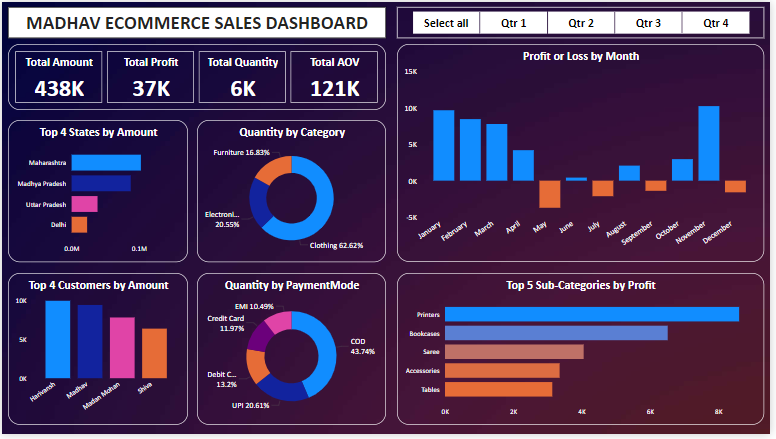

This screenshot's page, from the dashboard's own definition file:
{"tool":"powerbi","page":{"name":"Page 1","canvas":[1280,720],"ordinal":0},"visuals":[{"type":"textbox","box":[10,8.3,630,51.7],"z":0},{"type":"clusteredColumnChart","title":"Profit or Loss by Month","fields":{"Y":["Sum(Details_Data.Profit)"],"Category":["Orders_Lookup.Order Date.Variation.Date Hierarchy.Month"]},"box":[658.3,70,611.7,363.3],"z":1000},{"type":"clusteredBarChart","title":"Top 5 Sub-Categories by Profit","fields":{"Category":["Details_Data.Sub-Category"],"Y":["Sum(Details_Data.Profit)"]},"box":[658.3,451.7,611.7,253.3],"z":2000},{"type":"donutChart","title":"Quantity by PaymentMode","fields":{"Category":["Details_Data.PaymentMode"],"Y":["Sum(Details_Data.Quantity)"]},"box":[325,451.7,315,253.3],"z":3000},{"type":"donutChart","title":"Quantity by Category","fields":{"Y":["Sum(Details_Data.Quantity)"],"Category":["Details_Data.Category"]},"box":[325,196.7,315,236.7],"z":4000},{"type":"clusteredColumnChart","title":"Top 4 Customers by Amount","fields":{"Category":["Orders_Lookup.CustomerName"],"Y":["Sum(Details_Data.Amount)"]},"box":[10,451.7,300,253.3],"z":5000},{"type":"barChart","title":"Top 4 States by Amount","fields":{"Category":["Orders_Lookup.State"],"Y":["Sum(Details_Data.Amount)"]},"box":[10,196.7,300,236.7],"z":6000},{"type":"cardVisual","fields":{"Data":["Sum(Details_Data.Amount)","Sum(Details_Data.Profit)","Sum(Details_Data.Quantity)","Sum(Details_Data.Average Order Value)"]},"box":[10,70,630,110],"z":7001},{"type":"slicer","fields":{"Values":["Orders_Lookup.Order Date.Variation.Date Hierarchy.Quarter"]},"box":[658.3,8.3,611.7,51.7],"z":7002}]}

Visuals, with their boxes in screenshot pixels (x1, y1, x2, y2), scaled from the page's 1280x720 canvas onto the 776x439 screenshot:
textbox: BBox(6, 5, 388, 37)
"Profit or Loss by Month" clusteredColumnChart: BBox(399, 43, 770, 264)
"Top 5 Sub-Categories by Profit" clusteredBarChart: BBox(399, 275, 770, 430)
"Quantity by PaymentMode" donutChart: BBox(197, 275, 388, 430)
"Quantity by Category" donutChart: BBox(197, 120, 388, 264)
"Top 4 Customers by Amount" clusteredColumnChart: BBox(6, 275, 188, 430)
"Top 4 States by Amount" barChart: BBox(6, 120, 188, 264)
cardVisual - Sum(Details_Data.Amount) x Sum(Details_Data.Profit): BBox(6, 43, 388, 110)
slicer - Orders_Lookup.Order Date.Variation.Date Hierarchy.Quarter: BBox(399, 5, 770, 37)
